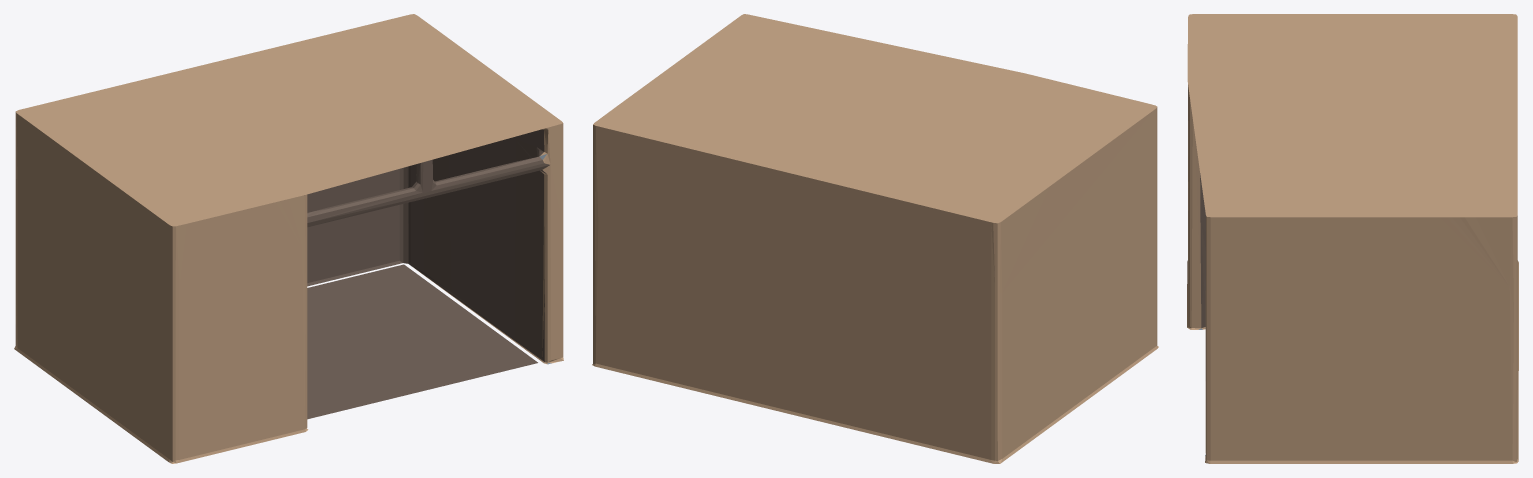
The model's file is etape-1.glb.
3 views of the same model, side by side, from view 1: azimuth 30°, elevation 25°; view 2: azimuth 150°, elevation 25°; view 3: azimuth 270°, elevation 25° (orthographic). The views are drawn at different scales.
Visible parts, largest first — view 1: geometry_0; view 2: geometry_0; view 3: geometry_0.
Part boxes in pixels (x1,y1,x2,y2): geometry_0: [14, 14, 563, 463]; geometry_0: [592, 14, 1158, 463]; geometry_0: [1187, 14, 1518, 463].
Size of the model in its own units: 0.9185 by 0.5165 by 0.6305.
